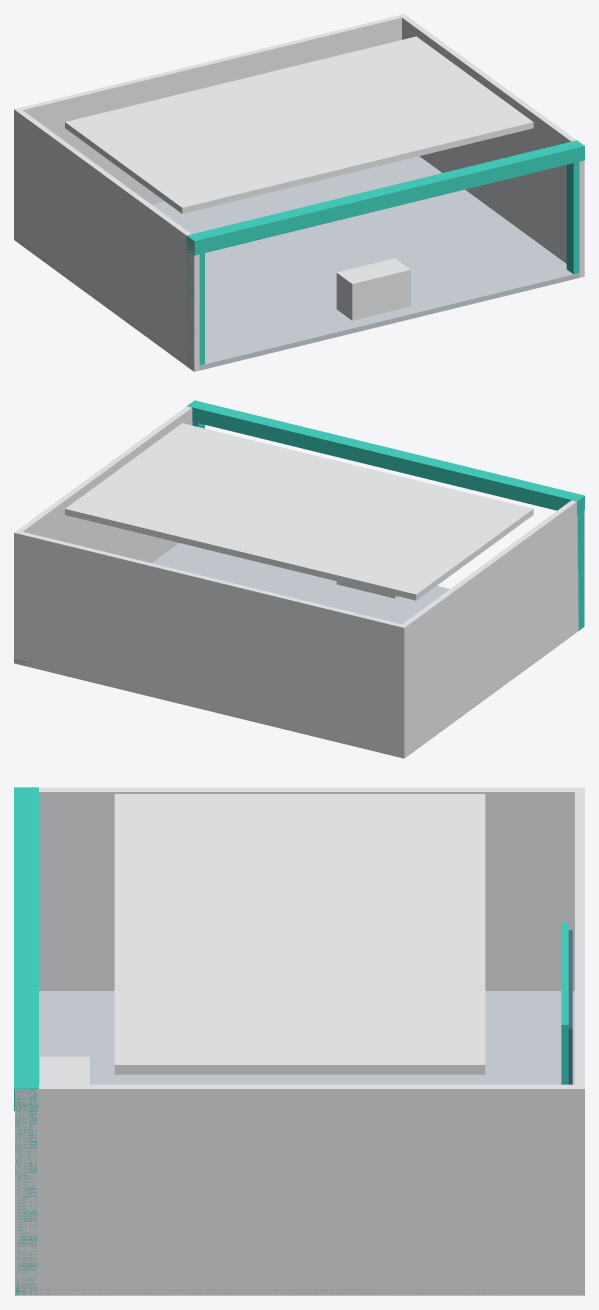
The picture shows the model from 3 angles, top to bottom: view 1: azimuth 30°, elevation 25°; view 2: azimuth 150°, elevation 25°; view 3: azimuth 270°, elevation 25°; orthographic projection. The views are drawn at different scales.
Visible parts, largest first — view 1: Exhibition Booth Concept; view 2: Exhibition Booth Concept; view 3: Exhibition Booth Concept.
Boxes of the visible parts, x1,y1,x2,y2 form: Exhibition Booth Concept: [14, 14, 584, 371]; Exhibition Booth Concept: [14, 400, 584, 758]; Exhibition Booth Concept: [14, 787, 584, 1295].
Size of the model in its own units: 10 by 3.34 by 8.01.
